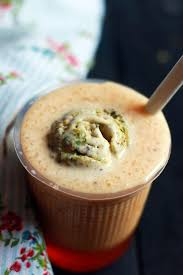jigirthanda: (25, 98, 149, 251)
